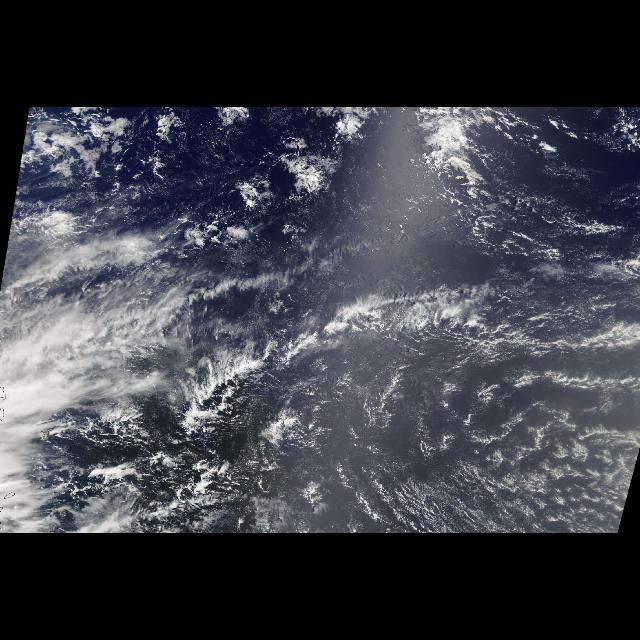Fish: (178, 250, 528, 430)
Gravel: (304, 238, 636, 532), (88, 409, 302, 533)
Sugar: (336, 394, 594, 532)
